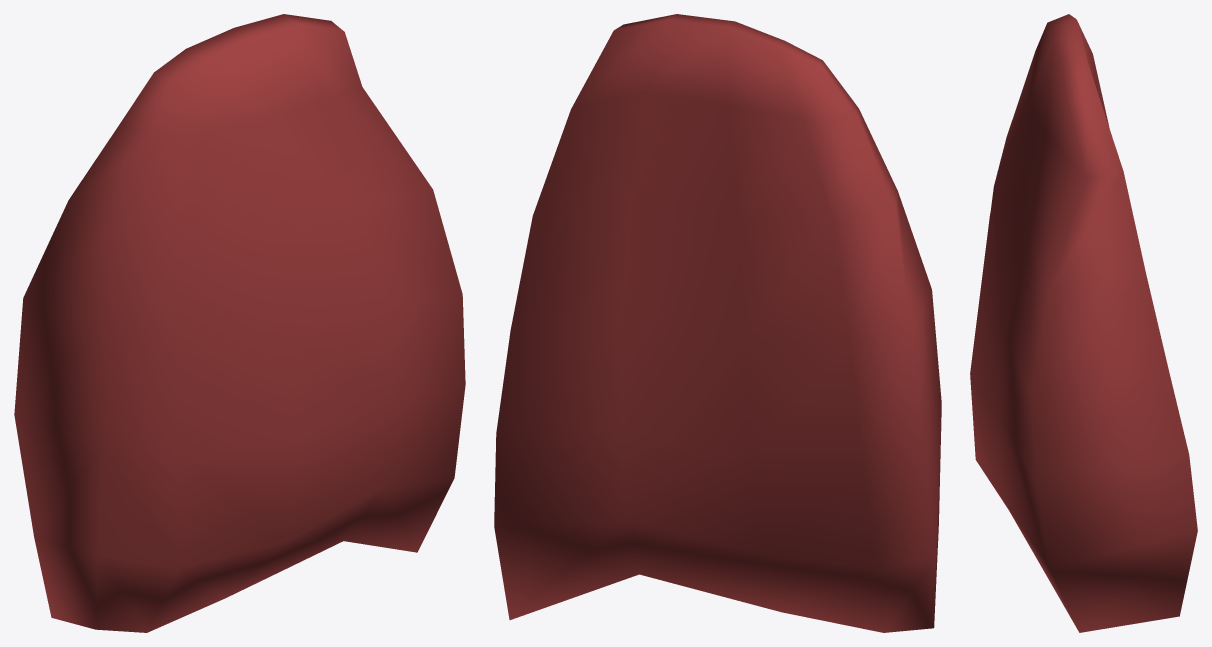
The model's file is subtendinous-calcaneal-bursa-l.glb.
The picture shows the model from 3 angles, left to right: view 1: azimuth 30°, elevation 25°; view 2: azimuth 150°, elevation 25°; view 3: azimuth 270°, elevation 25°; orthographic projection. The views are drawn at different scales.
Parts seen in each view (by area): view 1: Subtendinous calcaneal bursa.l; view 2: Subtendinous calcaneal bursa.l; view 3: Subtendinous calcaneal bursa.l.
Part boxes in pixels (x1=…): Subtendinous calcaneal bursa.l: x1=14, y1=14, x2=465, y2=632; Subtendinous calcaneal bursa.l: x1=494, y1=14, x2=941, y2=632; Subtendinous calcaneal bursa.l: x1=970, y1=14, x2=1197, y2=632.
Size of the model in its own units: 0.0214 by 0.0283 by 0.0113.
